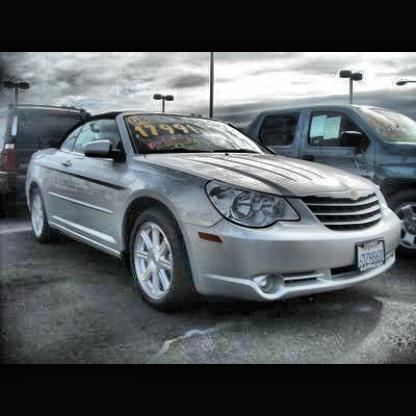Chrysler Sebring Convertible 2010: (28, 112, 405, 311)
